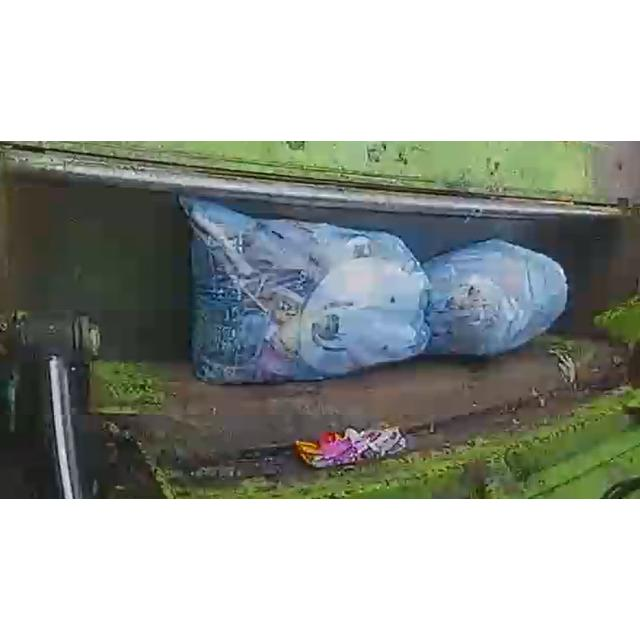other_trashbag: (424, 240, 568, 355)
